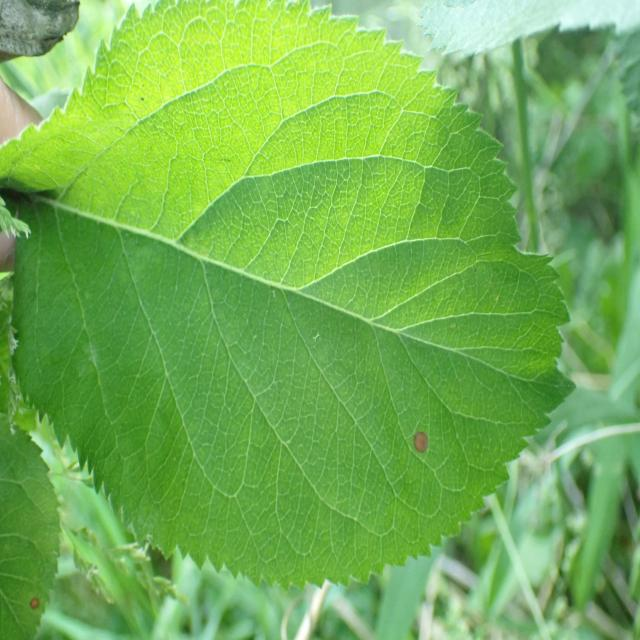Black Rot: (399, 409, 452, 474)
